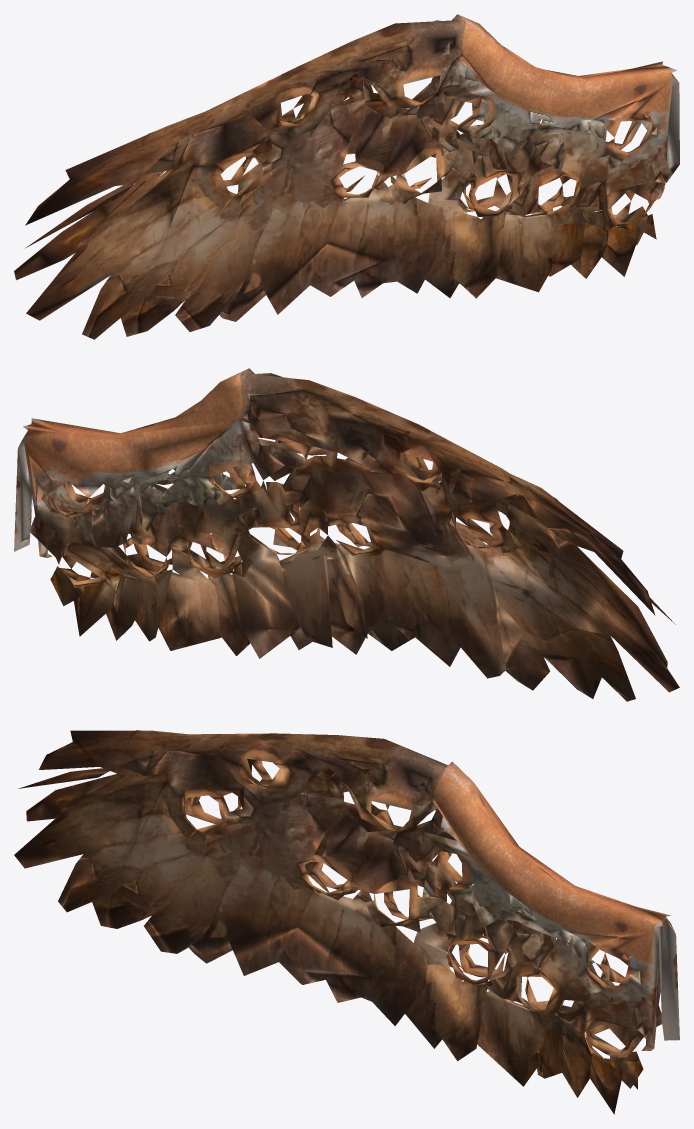
The model's file is wingEyes.glb.
The picture shows the model from 3 angles, top to bottom: view 1: azimuth 30°, elevation 25°; view 2: azimuth 150°, elevation 25°; view 3: azimuth 330°, elevation 25°; orthographic projection. The views are drawn at different scales.
Parts seen in each view (by area): view 1: geometry_0; view 2: geometry_0; view 3: geometry_0.
Boxes of the visible parts, <box> form: geometry_0: <box>14,14,679,339</box>; geometry_0: <box>14,368,679,701</box>; geometry_0: <box>14,730,679,1114</box>.
Bounding box in the file's own units: 0.9759 × 0.4444 × 0.0797.
1 material, 1 textured.
